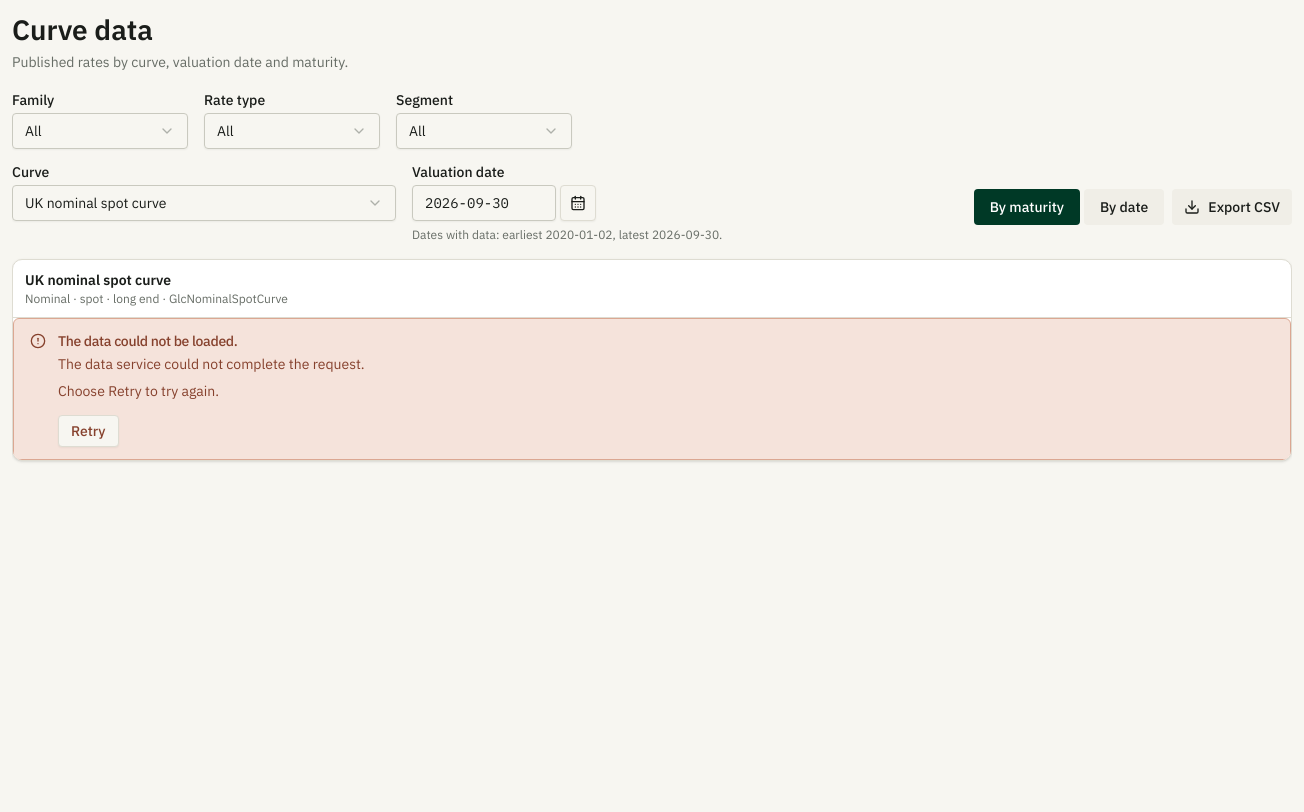
Test: Epic curve-data, Story 1: Rates by maturity › shows a persistent error with Retry when the curve data cannot load, and Retry reloads it
Expected: the text "The data service could not complete the request." is shown, [58,353,365,376]
Click the button "Retry" at (88, 430), box [58,414,118,446]
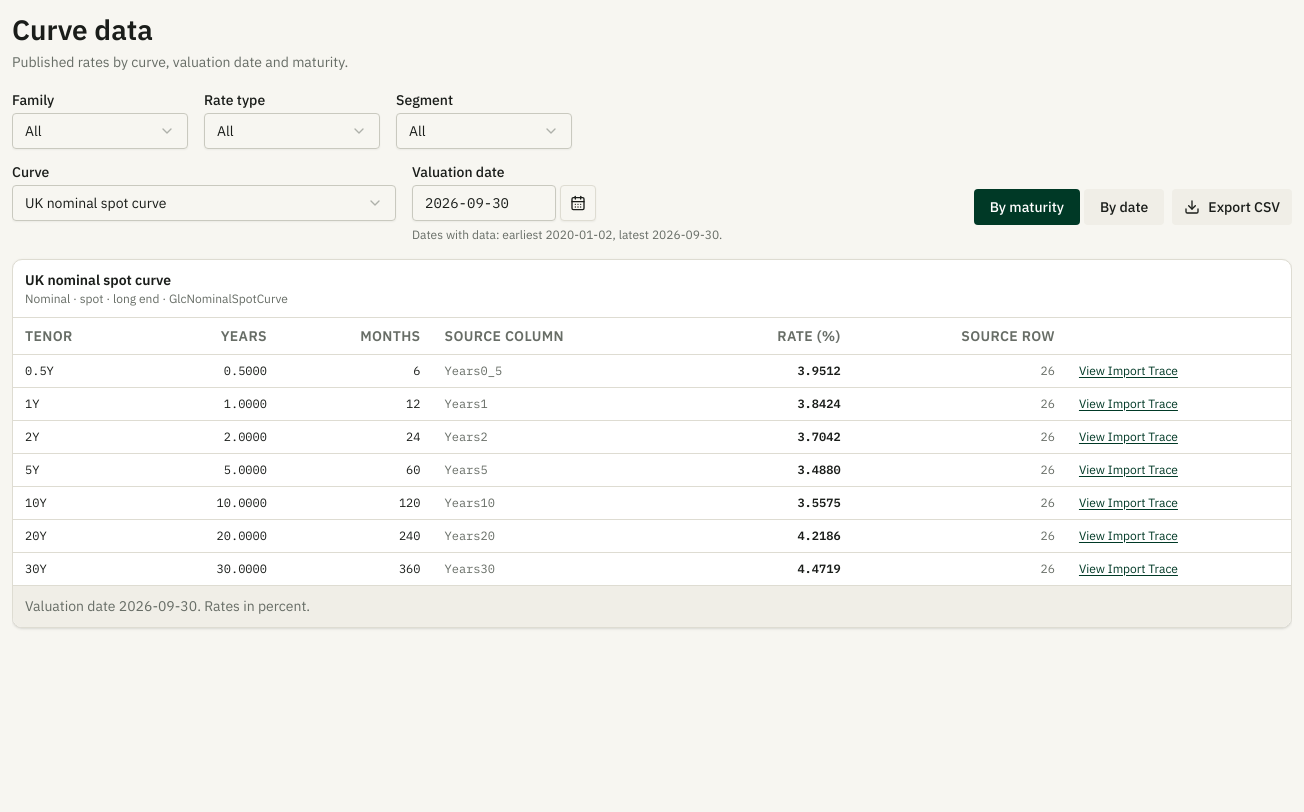
Now the row "10Y 10.0000 120 Years10 3.5575 26 View Import Trace" is shown, box [13,486,1291,519]
Now the message is gone
